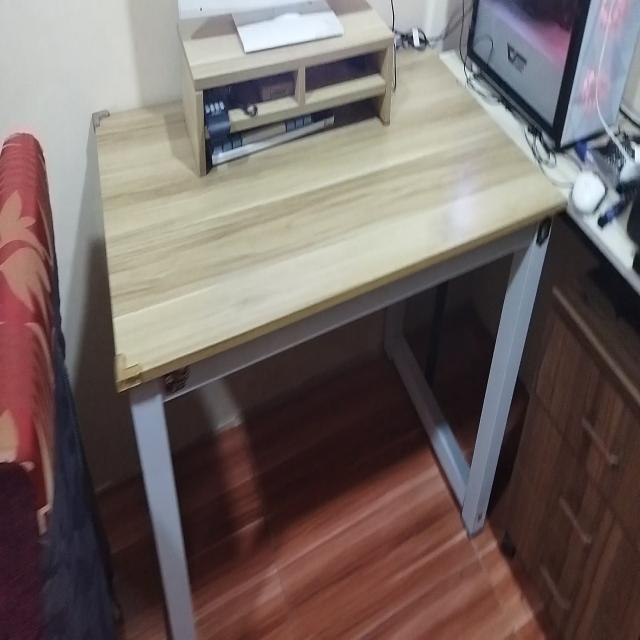table: (94, 40, 542, 640)
